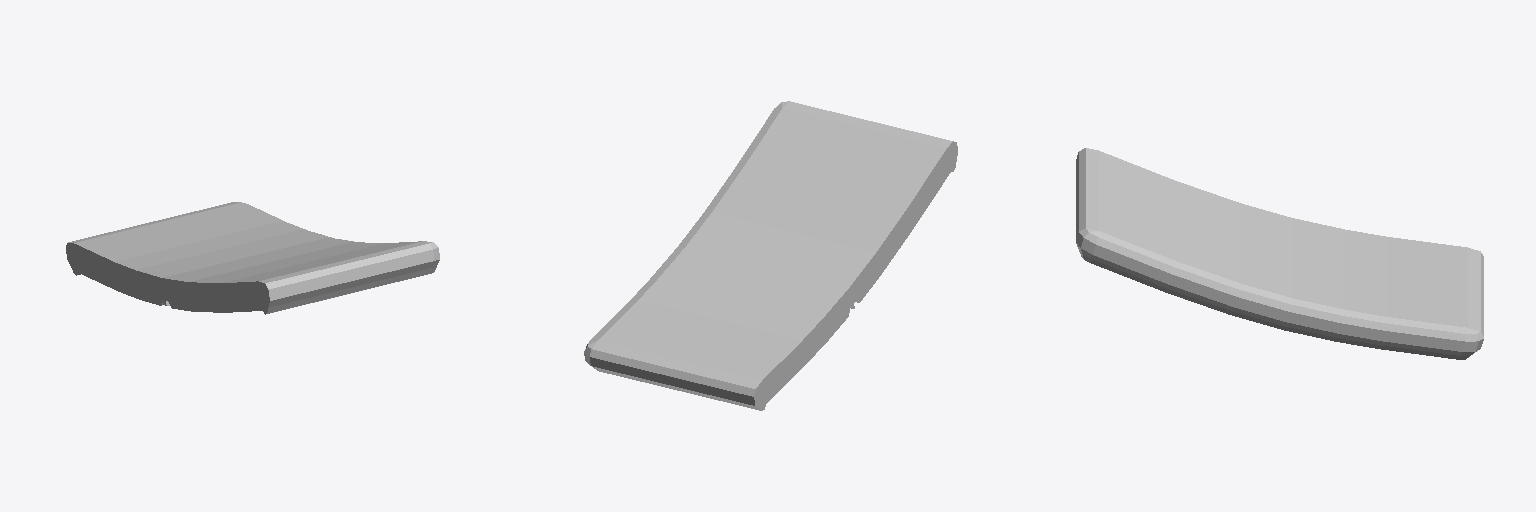
The picture shows the model from 3 angles: view 1: azimuth 30°, elevation 25°; view 2: azimuth 150°, elevation 25°; view 3: azimuth 270°, elevation 25°; orthographic projection.
Parts seen in each view (by area): view 1: Back; view 2: Back; view 3: Back.
Part boxes in pixels (x1,y1,x2,y2): Back: (66,202,439,314); Back: (584,101,957,410); Back: (1076,148,1483,359).
Bounding box in the file's own units: 0.3044 × 0.2149 × 0.6114.